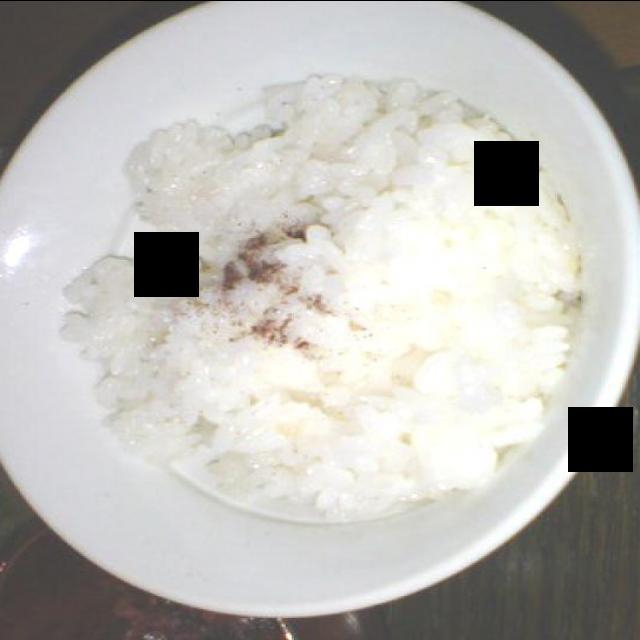rice: (47, 73, 582, 525)
